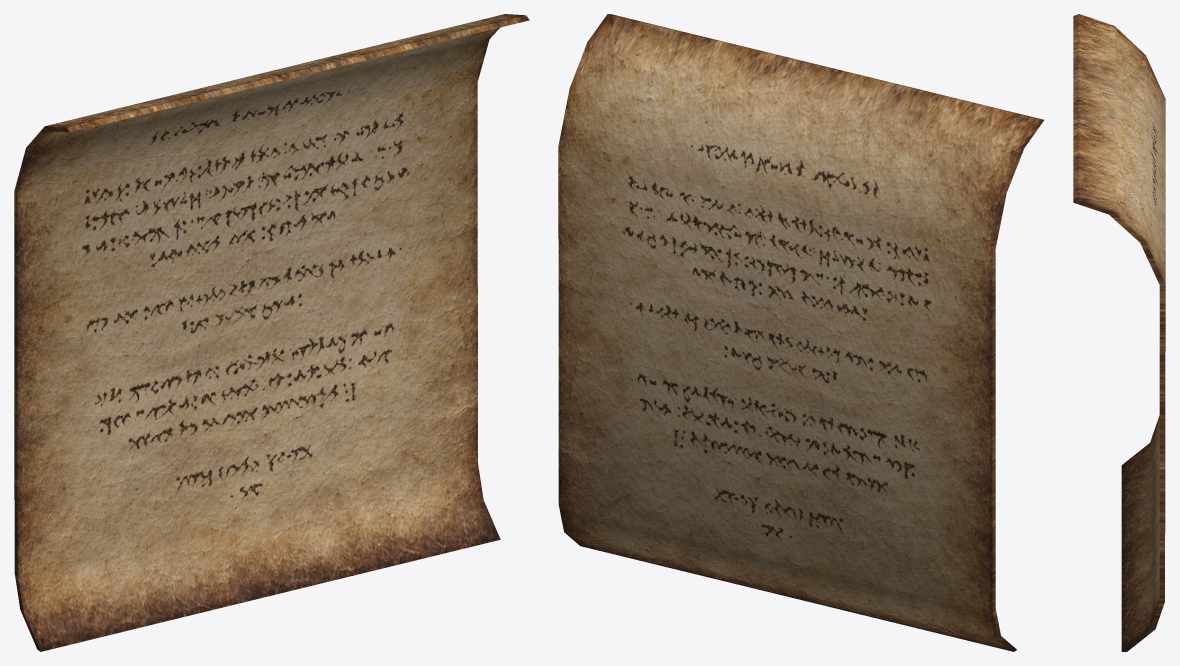
Rendered from mm9_deco_scroll.glb.
3 renders of one model, left to right at view 1: azimuth 30°, elevation 25°; view 2: azimuth 150°, elevation 25°; view 3: azimuth 270°, elevation 25°, orthographic. The views are drawn at different scales.
Parts seen in each view (by area): view 1: Scroll; view 2: Scroll; view 3: Scroll.
Part boxes in pixels (<box>): Scroll: <box>14,14,529,651</box>; Scroll: <box>558,14,1043,651</box>; Scroll: <box>1073,14,1165,651</box>.
Size of the model in its own units: 0.506 by 0.5708 by 0.1057.
1 material, 1 textured.
